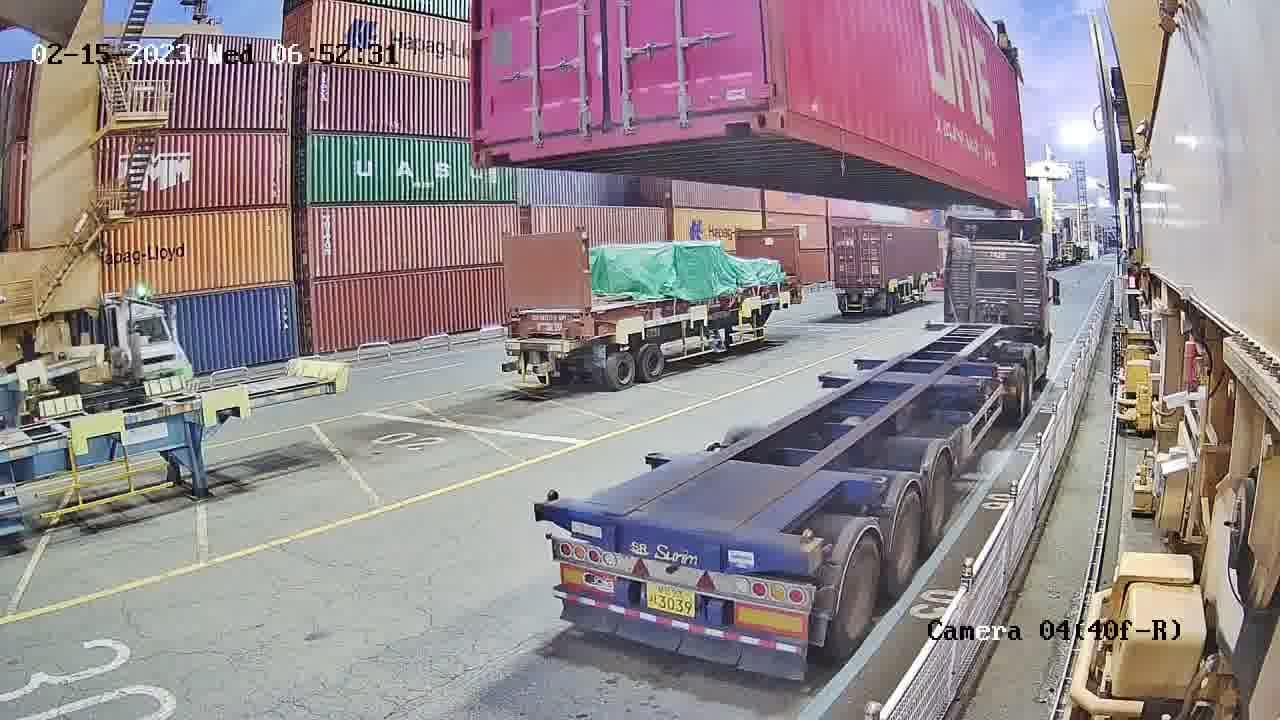Chassis: (540, 504, 816, 575)
Cone: (795, 525, 818, 570), (544, 488, 565, 514)
Hole_L: (775, 85, 817, 141), (468, 126, 509, 167)
Hole_R: (724, 83, 776, 137)
